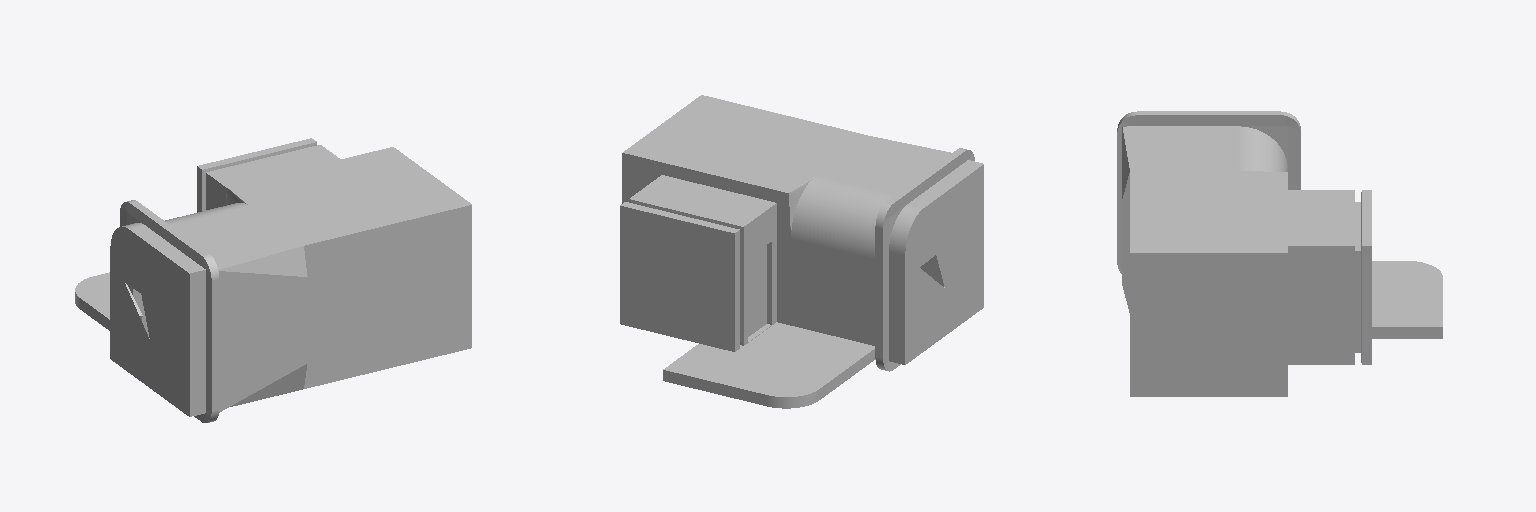
File: startercelle.obj
3 views of the same model, side by side, from view 1: azimuth 30°, elevation 25°; view 2: azimuth 150°, elevation 25°; view 3: azimuth 270°, elevation 25° (orthographic).
Parts seen in each view (by area): view 1: Cube_Cube.001; view 2: Cube_Cube.001; view 3: Cube_Cube.001.
Boxes of the visible parts, x1=… form: Cube_Cube.001: x1=75, y1=138, x2=471, y2=422; Cube_Cube.001: x1=620, y1=95, x2=983, y2=408; Cube_Cube.001: x1=1117, y1=111, x2=1442, y2=396.
Size of the model in its own units: 4.13 by 2.32 by 4.11.